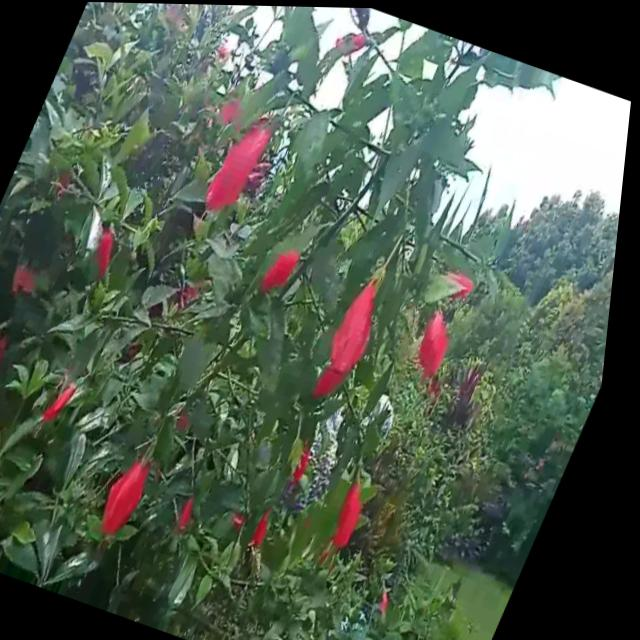Flower: (316, 255, 411, 407), (203, 102, 283, 224), (102, 435, 171, 544), (328, 463, 393, 564), (411, 302, 473, 382), (255, 239, 309, 308), (51, 364, 98, 428), (88, 225, 133, 285), (259, 507, 288, 549)
